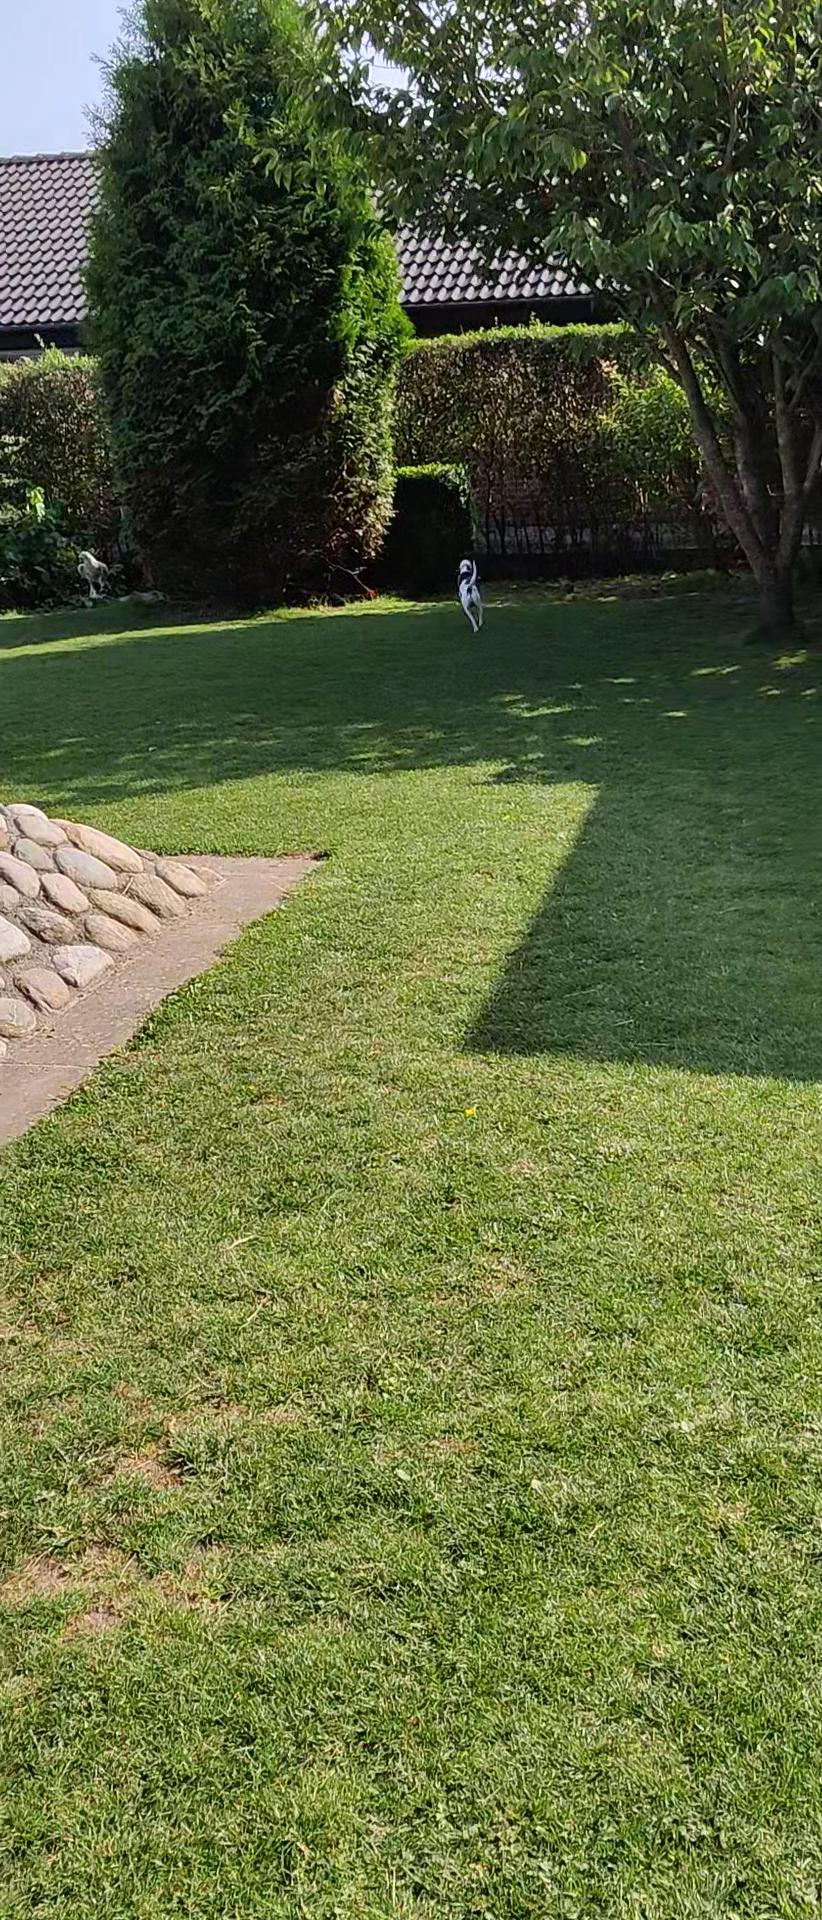Dog: (446, 542, 489, 640)
